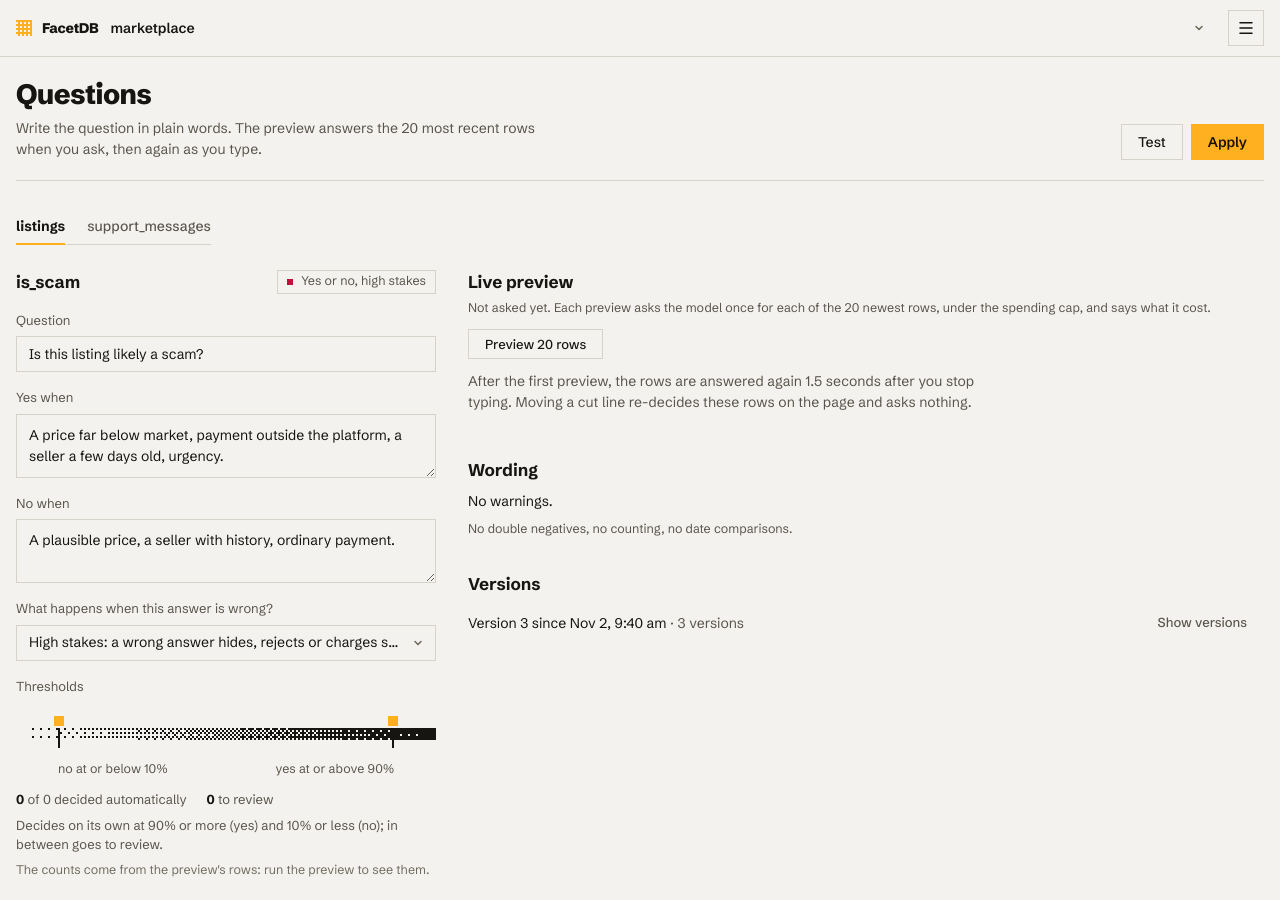
Test: on a phone › opens the drawer with the pages, the instrument and the theme switch; Escape closes it
The image size is (1280, 900).
Click the button named "Menu".
click(1246, 28)  # box x1=1228 y1=10 x2=1264 y2=46
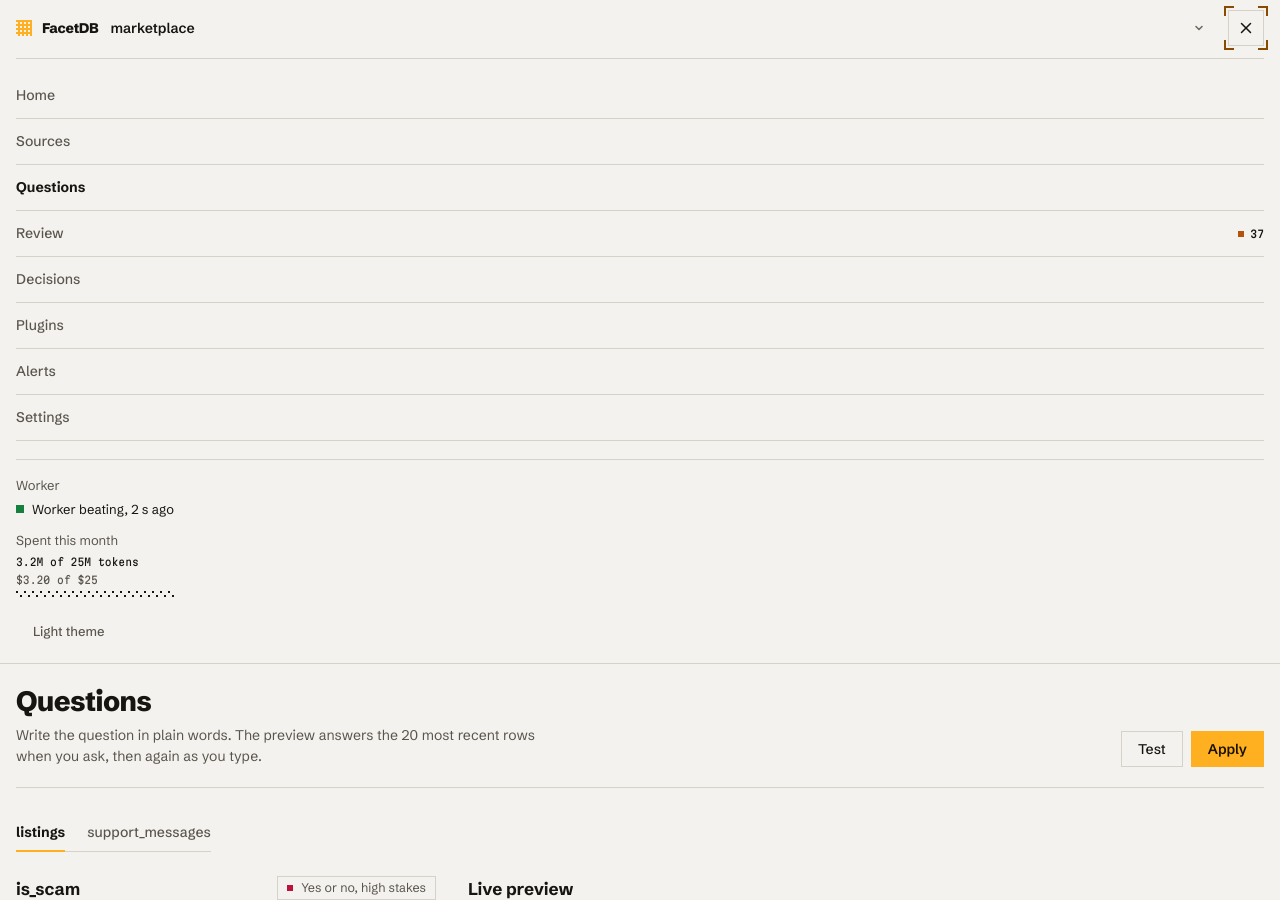
Check: the button named "Menu" is expanded, box x1=1228 y1=10 x2=1264 y2=46
Check: the element named "Worker and spending" is shown, box x1=16 y1=459 x2=1264 y2=598
Check: the button with aria-label "Switch to the light theme" is shown, box x1=16 y1=616 x2=122 y2=646
Press Escape
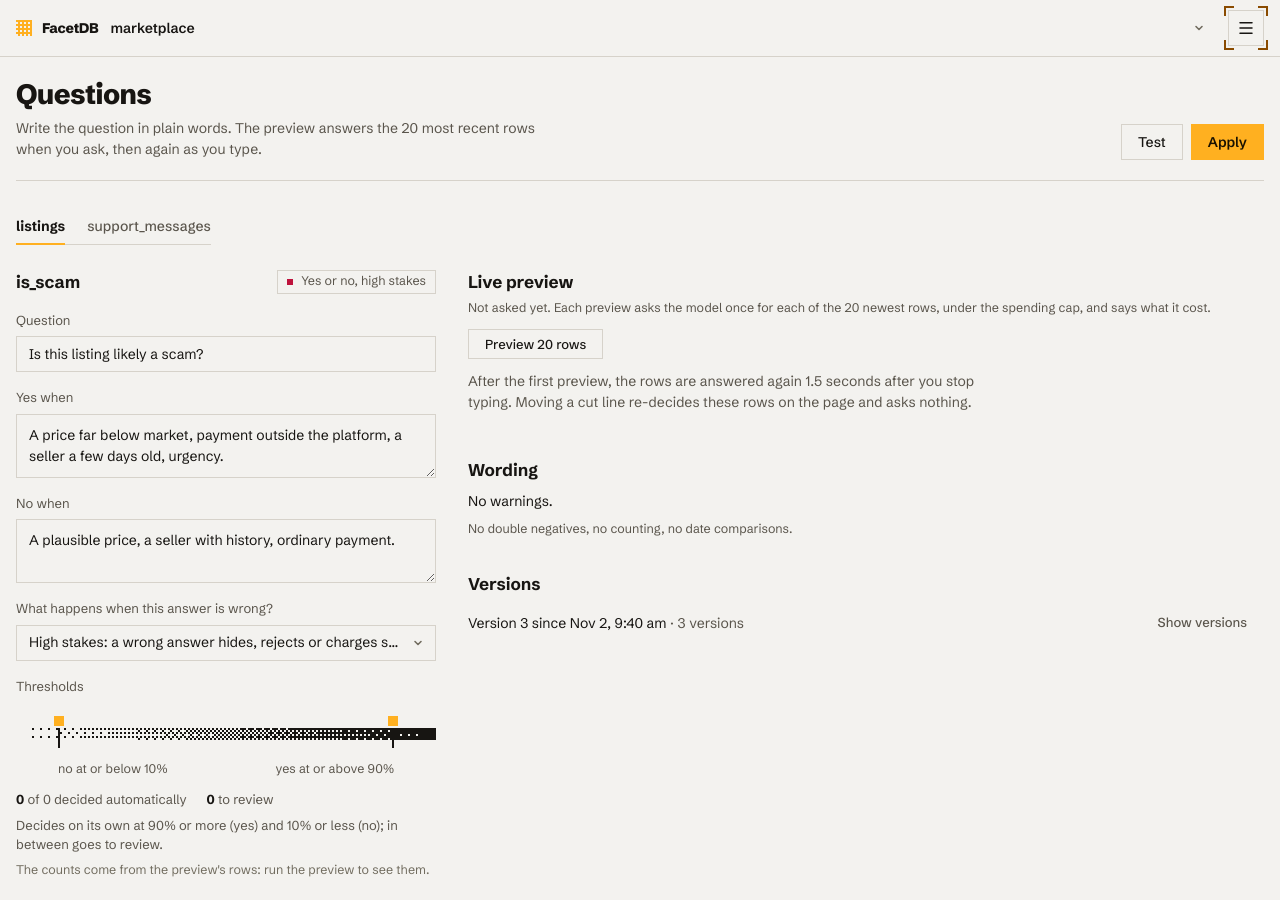
Check: the navigation bar "Pages" is gone
Check: the button named "Menu" is collapsed, box x1=1228 y1=10 x2=1264 y2=46
